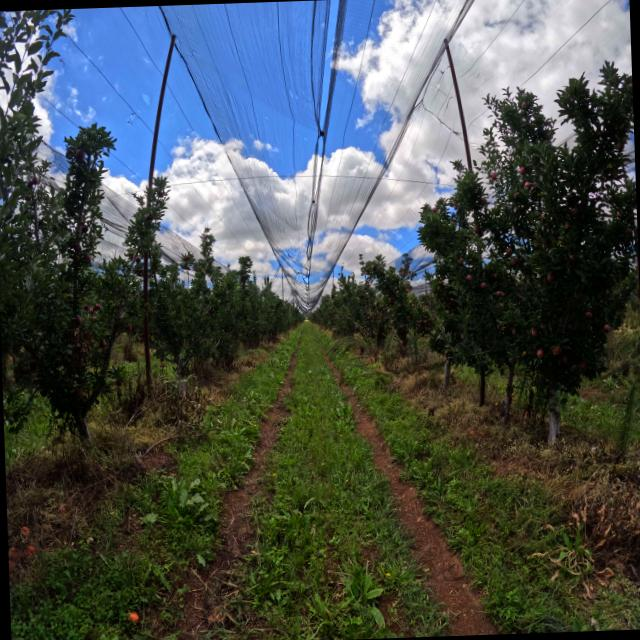-FireBlight-: (71, 329, 91, 364)
